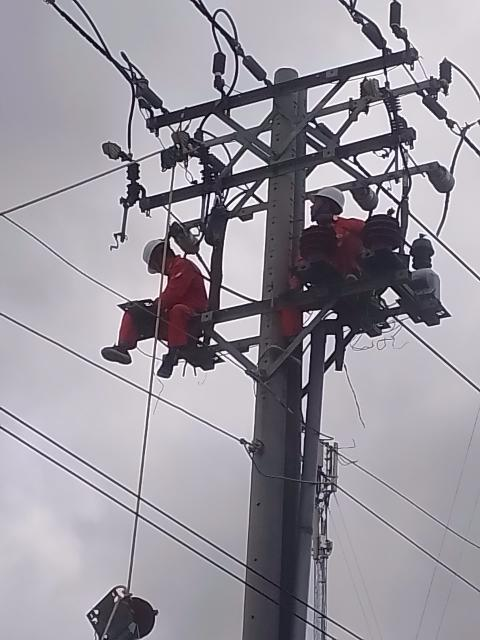helmet: (134, 231, 181, 270), (307, 178, 347, 209)
shoes: (100, 343, 133, 368), (154, 352, 178, 379)
